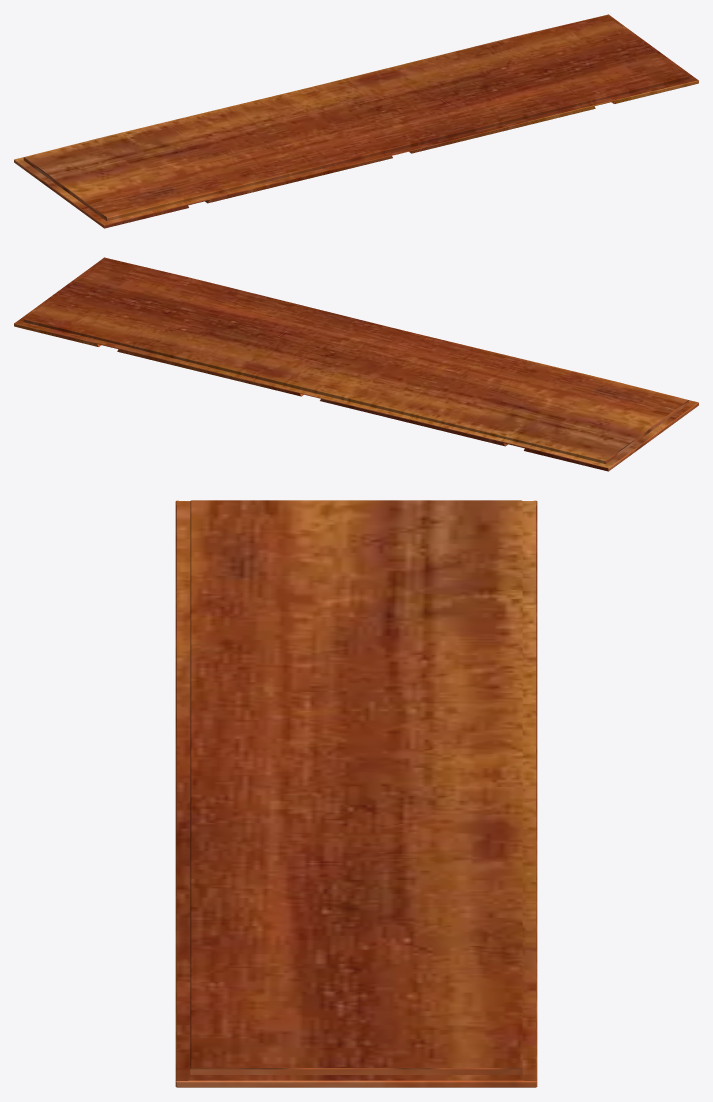
Rendered from ytsy_J_mianban.FBX.
The picture shows the model from 3 angles, top to bottom: view 1: azimuth 30°, elevation 25°; view 2: azimuth 150°, elevation 25°; view 3: azimuth 270°, elevation 25°; orthographic projection. The views are drawn at different scales.
Visible parts, largest first — view 1: ytsy_J_mianban; view 2: ytsy_J_mianban; view 3: ytsy_J_mianban.
Boxes of the visible parts, bbox=[...] form: ytsy_J_mianban: bbox=[14, 14, 698, 228]; ytsy_J_mianban: bbox=[14, 257, 698, 471]; ytsy_J_mianban: bbox=[175, 500, 537, 1087].
Size of the model in its own units: 93 by 1 by 24.49.
